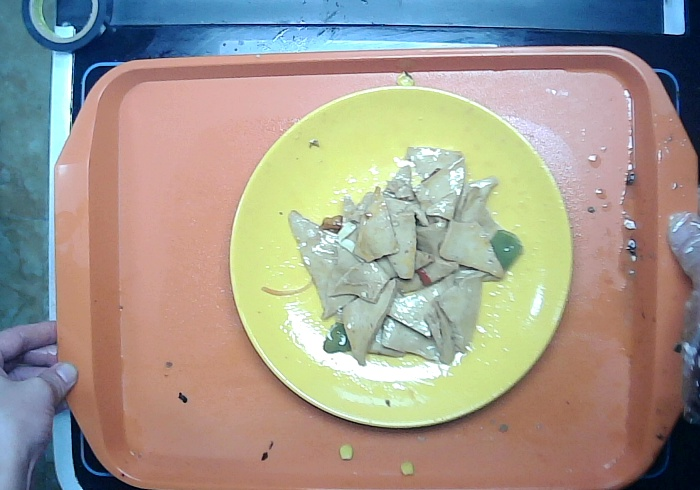HZYJPL-Huang_Se_Yuan_Pan: (217, 78, 583, 438)
